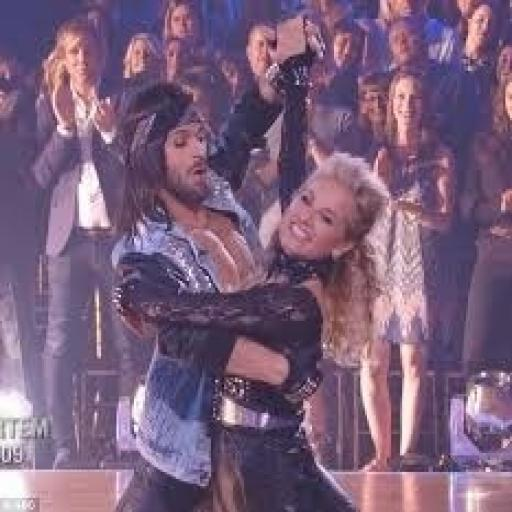dancing: (118, 40, 452, 512)
